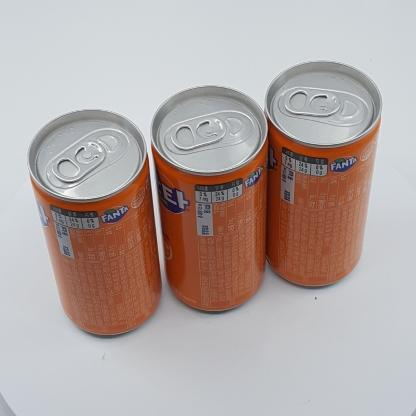-------215ML: (27, 109, 162, 335), (150, 85, 268, 311), (264, 60, 382, 286)
